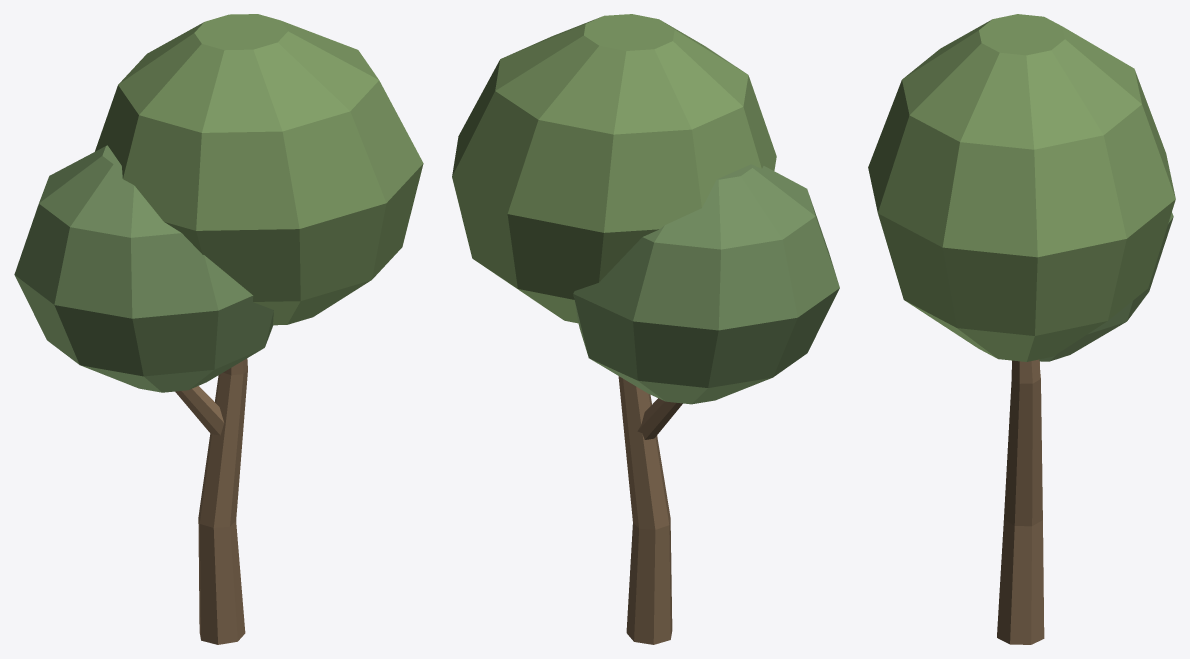
Rendered from courtyard-tree.glb.
The picture shows the model from 3 angles, left to right: view 1: azimuth 30°, elevation 25°; view 2: azimuth 150°, elevation 25°; view 3: azimuth 270°, elevation 25°; orthographic projection. The views are drawn at different scales.
Visible parts, largest first — view 1: courtyard-tree; view 2: courtyard-tree; view 3: courtyard-tree.
Boxes of the visible parts, left/top/right/bottom form: courtyard-tree: left=14, top=14, right=423, bottom=644; courtyard-tree: left=452, top=14, right=839, bottom=644; courtyard-tree: left=868, top=14, right=1175, bottom=644.
Bounding box in the file's own units: 2.99 × 4.72 × 2.15.
